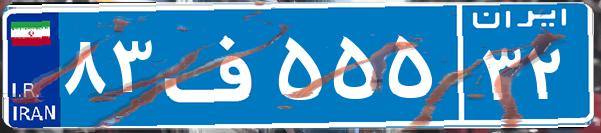2: (525, 38, 570, 115)
3: (475, 38, 525, 113), (110, 28, 158, 105)
5: (385, 28, 445, 110), (273, 28, 330, 110), (330, 28, 385, 110)
8: (57, 26, 110, 107)
ف: (158, 15, 273, 115)
